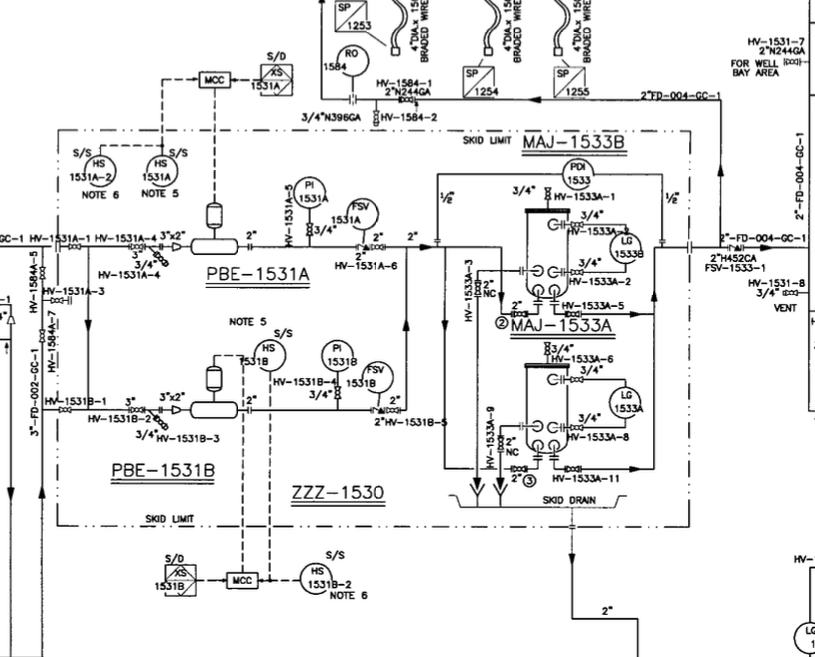Instrument-offset: (328, 196, 386, 231), (323, 42, 374, 79), (68, 153, 120, 189), (300, 562, 354, 596), (343, 360, 398, 393), (239, 337, 289, 373), (607, 380, 645, 425), (291, 172, 334, 211), (140, 153, 184, 188), (608, 228, 647, 266), (319, 337, 360, 373), (559, 156, 598, 190)
Instrument-square-offset: (147, 561, 200, 601), (244, 61, 297, 98)
